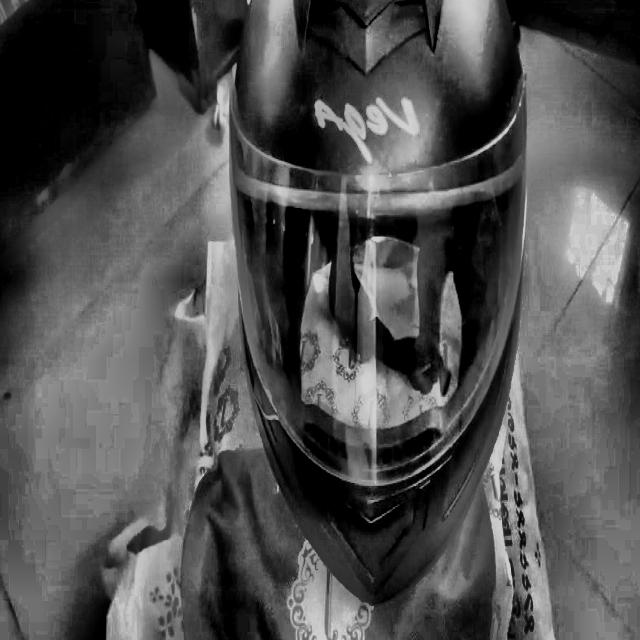Helmet: (222, 0, 534, 608)
